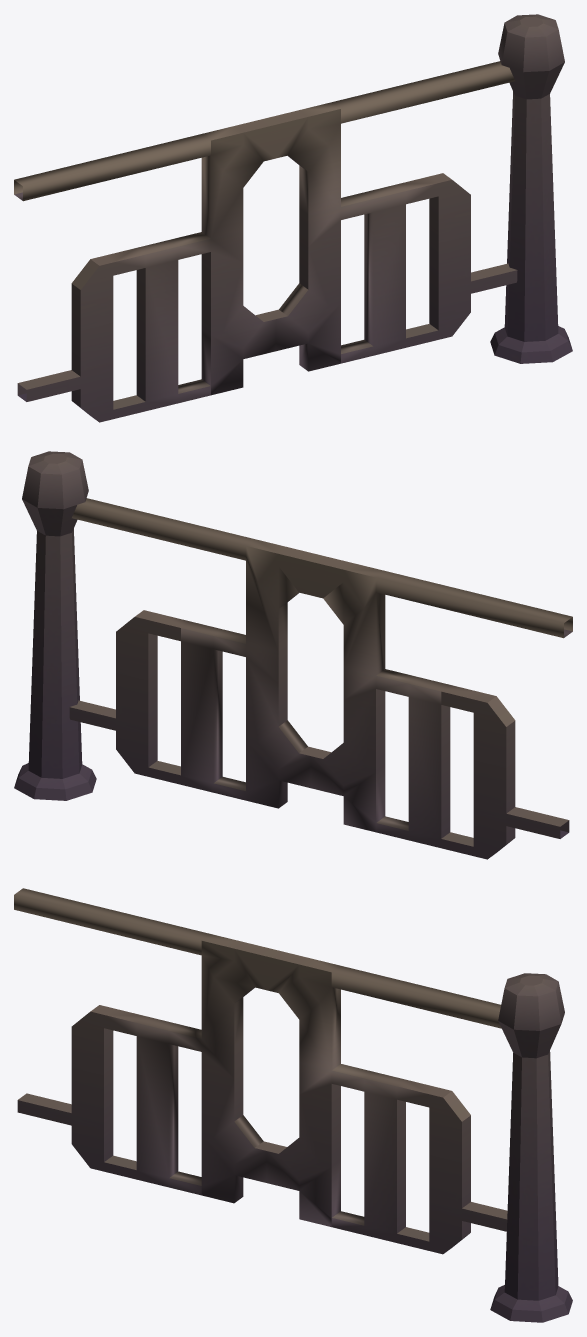
Rendered from SM_Railing.fbx.
The picture shows the model from 3 angles, top to bottom: view 1: azimuth 30°, elevation 25°; view 2: azimuth 150°, elevation 25°; view 3: azimuth 330°, elevation 25°; orthographic projection.
Parts seen in each view (by area): view 1: SM_RailingForeGround; view 2: SM_RailingForeGround; view 3: SM_RailingForeGround.
Part boxes in pixels (x1,y1,x2,y2): SM_RailingForeGround: (14, 14, 572, 422); SM_RailingForeGround: (14, 451, 572, 859); SM_RailingForeGround: (14, 888, 572, 1322).
Size of the model in its own units: 211 by 28.52 by 119.
